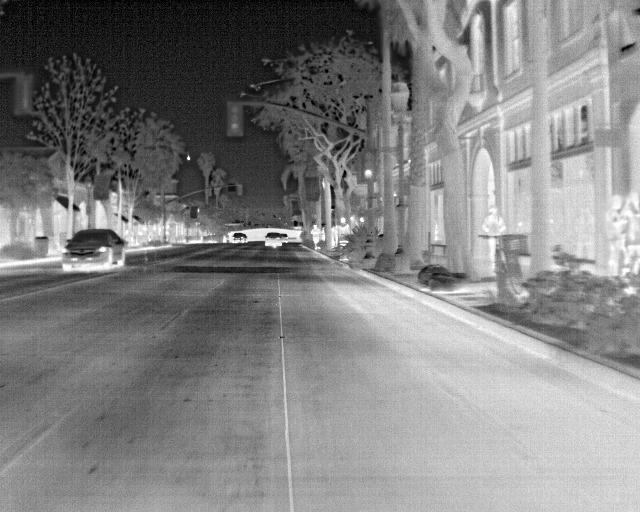bicycle: (59, 228, 127, 275), (265, 233, 285, 248), (230, 229, 247, 242)
empty: (604, 195, 625, 273), (622, 197, 639, 276), (480, 205, 502, 236), (308, 221, 320, 249)
